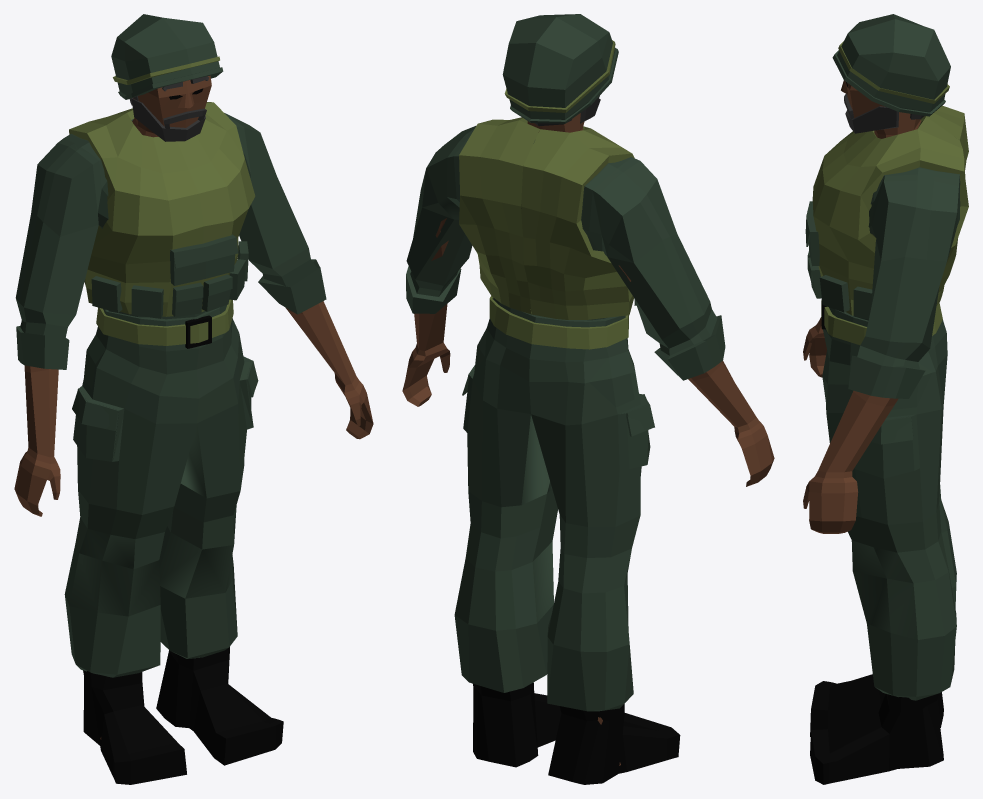
The model's file is LPC_Military_Figure_Modern_(srasmussen).fbx.
3 renders of one model, left to right at view 1: azimuth 30°, elevation 25°; view 2: azimuth 150°, elevation 25°; view 3: azimuth 270°, elevation 25°, orthographic. The views are drawn at different scales.
Parts seen in each view (by area): view 1: MG_Pants_M, MG Shirt_M, MG_Army Vest_M, MG_Boots_M.L, LPH_Arms.002, MG_Boots_M.R, MG_Pockets_M, MG_Helmet_M, MG_Belt_M, LPH_Head.002, Beard.001; view 2: MG_Pants_M, MG_Army Vest_M, MG Shirt_M, MG_Helmet_M, MG_Boots_M.R, LPH_Arms.002, MG_Boots_M.L, MG_Belt_M, MG_Band_M, MG_Helmet Rim_M; view 3: MG_Pants_M, MG Shirt_M, MG_Army Vest_M, MG_Boots_M.L, MG_Helmet_M, LPH_Arms.002, MG_Boots_M.R, MG_Pockets_M, LPH_Head.002, MG_Belt_M, Beard.001, MG_Helmet Rim_M (+1 smaller).
Boxes of the visible parts, <box> form: MG_Pants_M: <box>64,305,258,677</box>; MG Shirt_M: <box>15,113,326,369</box>; MG_Army Vest_M: <box>69,102,255,316</box>; MG_Boots_M.L: <box>156,647,283,765</box>; LPH_Arms.002: <box>14,301,373,516</box>; MG_Boots_M.R: <box>83,670,186,784</box>; MG_Pockets_M: <box>91,234,248,318</box>; MG_Helmet_M: <box>111,14,220,95</box>; MG_Belt_M: <box>96,299,233,345</box>; LPH_Head.002: <box>132,75,211,137</box>; Beard.001: <box>131,98,205,141</box>; MG_Pants_M: <box>454,298,654,711</box>; MG_Army Vest_M: <box>459,117,634,319</box>; MG Shirt_M: <box>406,126,725,380</box>; MG_Helmet_M: <box>502,14,615,119</box>; MG_Boots_M.R: <box>548,704,680,784</box>; LPH_Arms.002: <box>402,218,774,486</box>; MG_Boots_M.L: <box>473,682,561,767</box>; MG_Belt_M: <box>489,296,628,349</box>; MG_Band_M: <box>504,40,615,112</box>; MG_Helmet Rim_M: <box>510,47,618,123</box>; MG_Pants_M: <box>822,307,956,700</box>; MG Shirt_M: <box>848,167,960,398</box>; MG_Army Vest_M: <box>812,105,968,315</box>; MG_Boots_M.L: <box>810,693,943,784</box>; MG_Helmet_M: <box>837,14,950,112</box>; LPH_Arms.002: <box>803,317,898,533</box>; MG_Boots_M.R: <box>810,674,943,736</box>; MG_Pockets_M: <box>805,201,872,319</box>; LPH_Head.002: <box>841,80,921,138</box>; MG_Belt_M: <box>821,300,942,344</box>; Beard.001: <box>845,106,898,133</box>; MG_Helmet Rim_M: <box>832,50,945,116</box>.
Bounding box in the file's own units: 235 × 470 × 97.2.
Materials: 1 (1 with a texture image).
